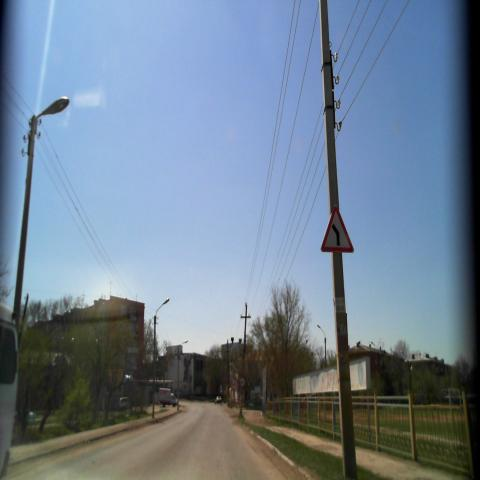1_11_1: (317, 205, 354, 255)
